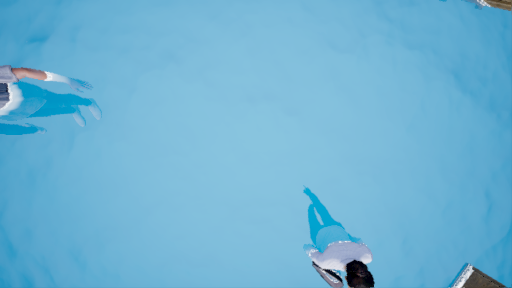person: (293, 187, 382, 288)
